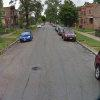Car: (16, 27, 36, 44)
